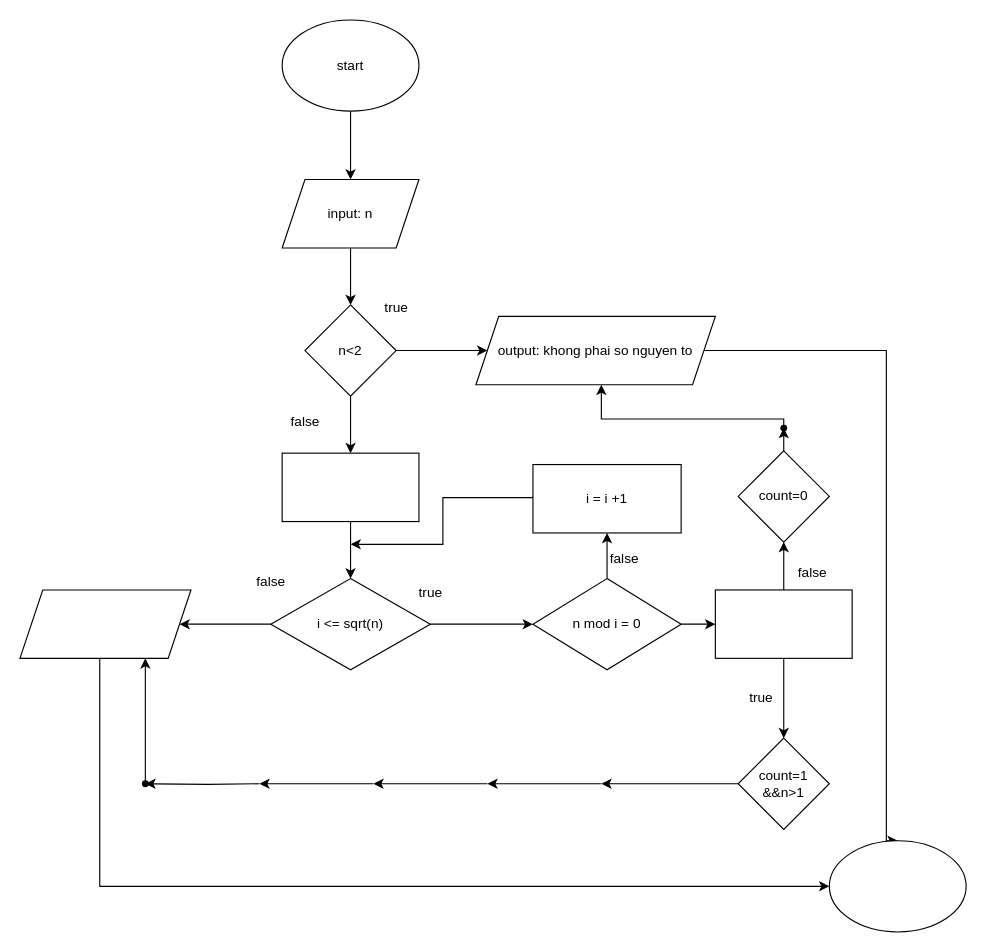
This 986x952 diagram has some shape labels left out. Here are the shapes that lost their labels. From the top down, the centre of each, then its label:
At pixel 350 487: "i = 2".
At pixel 105 623: "output: la so nguyen to".
At pixel 783 623: "count +1".
At pixel 897 886: "end".
